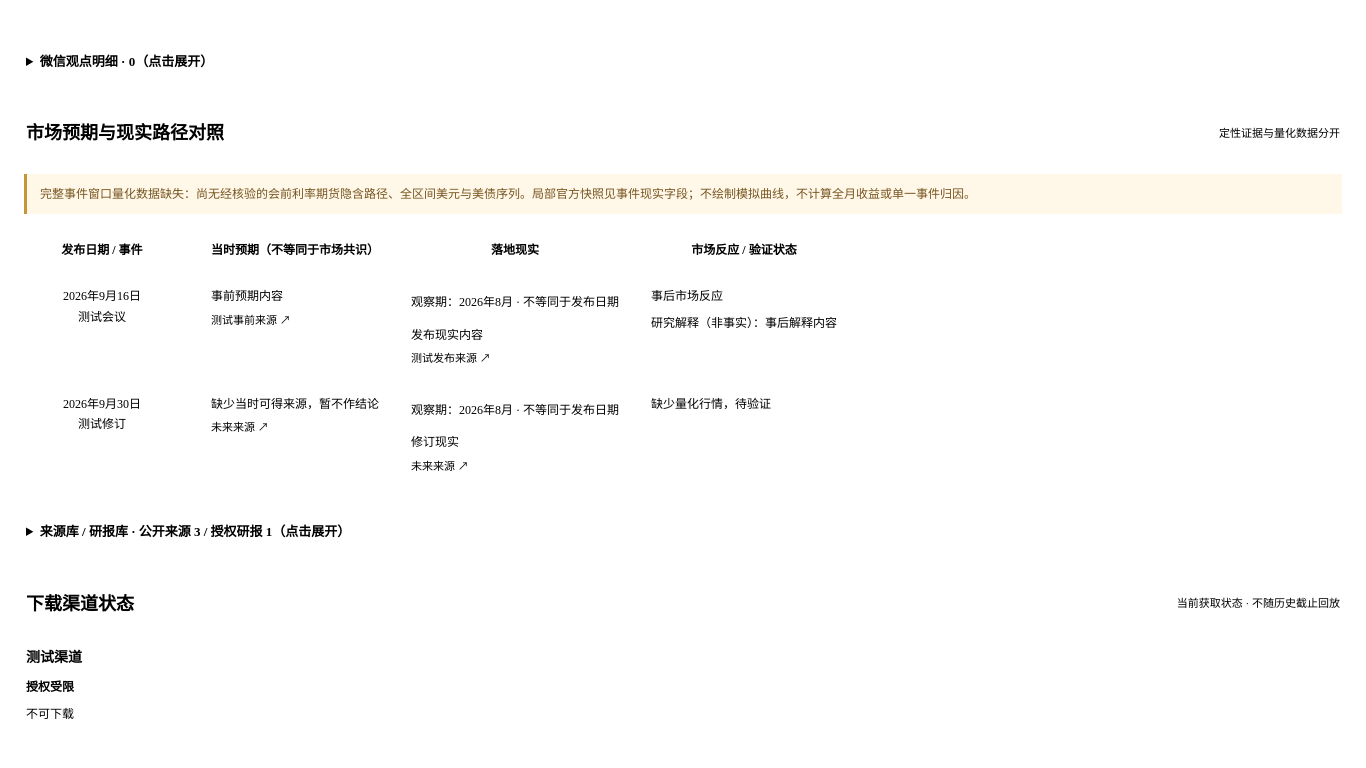
父方书目scope与主题分别显示，即使未单独提供geography也不丢失对象
(page scrolled)
Click the heading "来源库 / 研报库 · 公开来源 3 / 授权研报 1（点击展开）" at (195, 532), box [40,524,350,539]
(page scrolled)
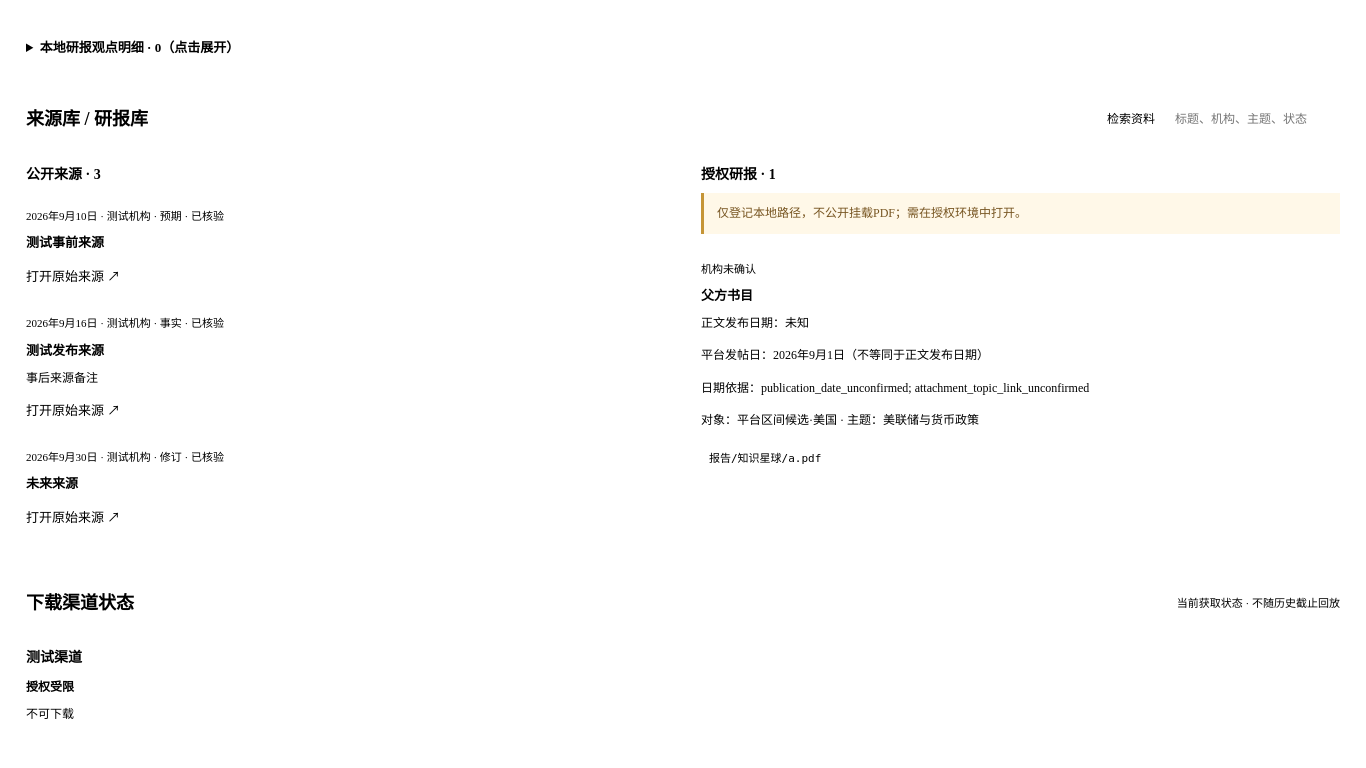
Expected: the text "对象：平台区间候选·美国 · 主题：美联储与货币政策" is shown, [701,413,979,427]
Expected: the text "attachment_topic_link_unconfirmed" is shown, [761,380,1089,394]
